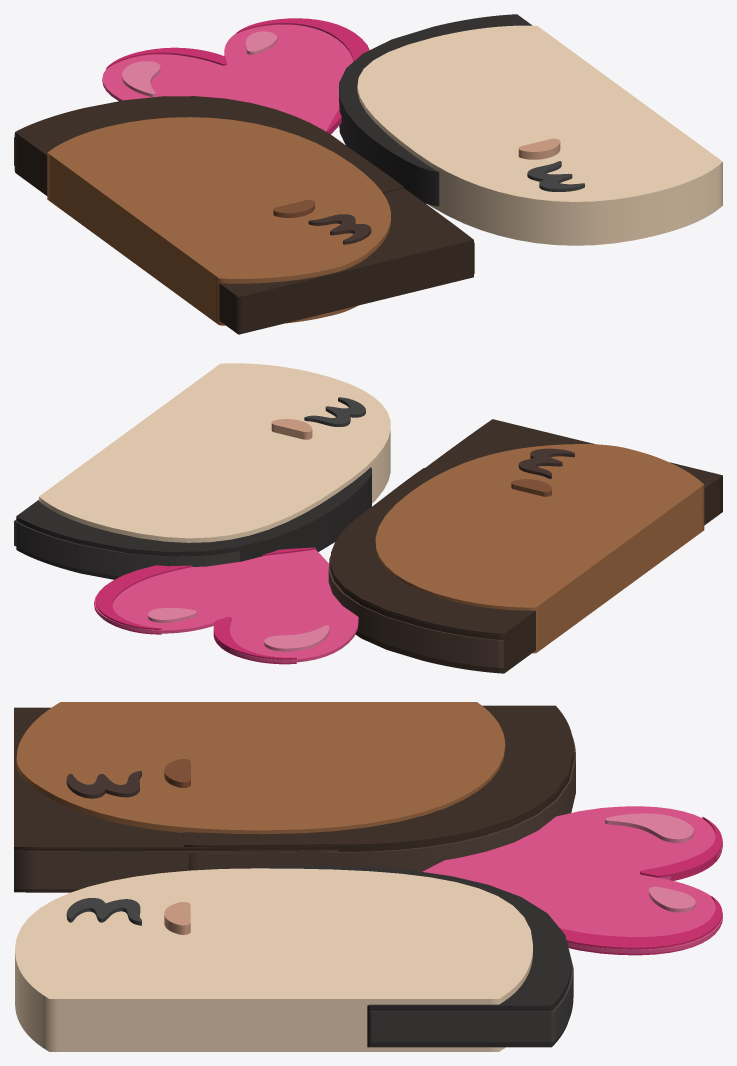
Rendered from emoji_u1f469_1f3fe_200d_2764_200d_1f48b_200d_1f468_1f3fb.glb.
3 renders of one model, top to bottom at view 1: azimuth 30°, elevation 25°; view 2: azimuth 150°, elevation 25°; view 3: azimuth 270°, elevation 25°, orthographic. The views are drawn at different scales.
Parts seen in each view (by area): view 1: emoji_u1f469_1f3fe_200d_2764_200d_1f48b_200d_1f468_1f3fb; view 2: emoji_u1f469_1f3fe_200d_2764_200d_1f48b_200d_1f468_1f3fb; view 3: emoji_u1f469_1f3fe_200d_2764_200d_1f48b_200d_1f468_1f3fb.
Part boxes in pixels (box(x1,y1,x2,y2)): emoji_u1f469_1f3fe_200d_2764_200d_1f48b_200d_1f468_1f3fb: box(14, 14, 722, 334); emoji_u1f469_1f3fe_200d_2764_200d_1f48b_200d_1f468_1f3fb: box(14, 363, 722, 673); emoji_u1f469_1f3fe_200d_2764_200d_1f48b_200d_1f468_1f3fb: box(14, 702, 722, 1051).
Bounding box in the file's own units: 0.0336 × 0.0038 × 0.0339.
